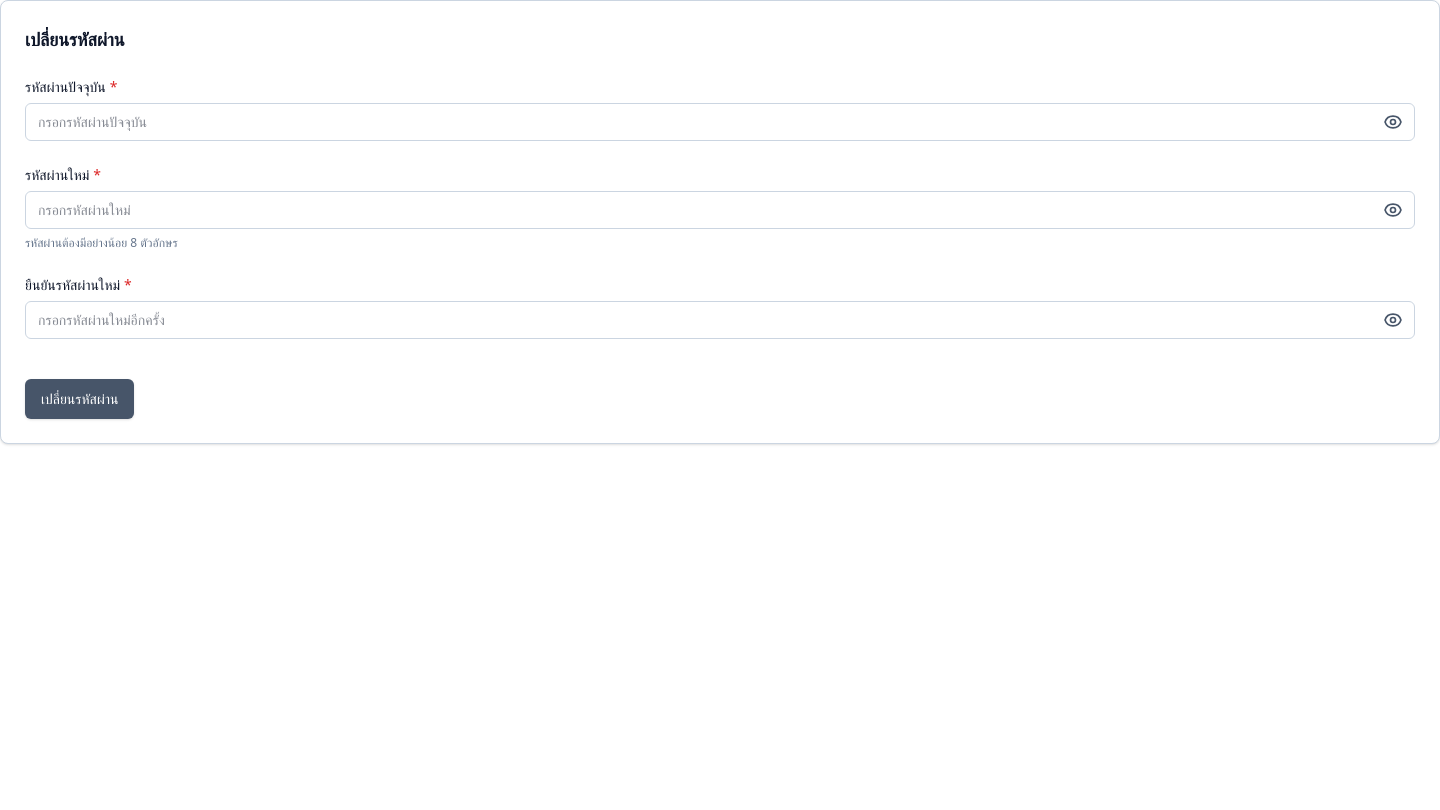
Scenario: ChangePasswordForm Component › should show password strength indicator
Type "weak" into the password field with placeholder "กรอกรหัสผ่านใหม่" at {"x": 720, "y": 210}, box [25,191,1415,229]
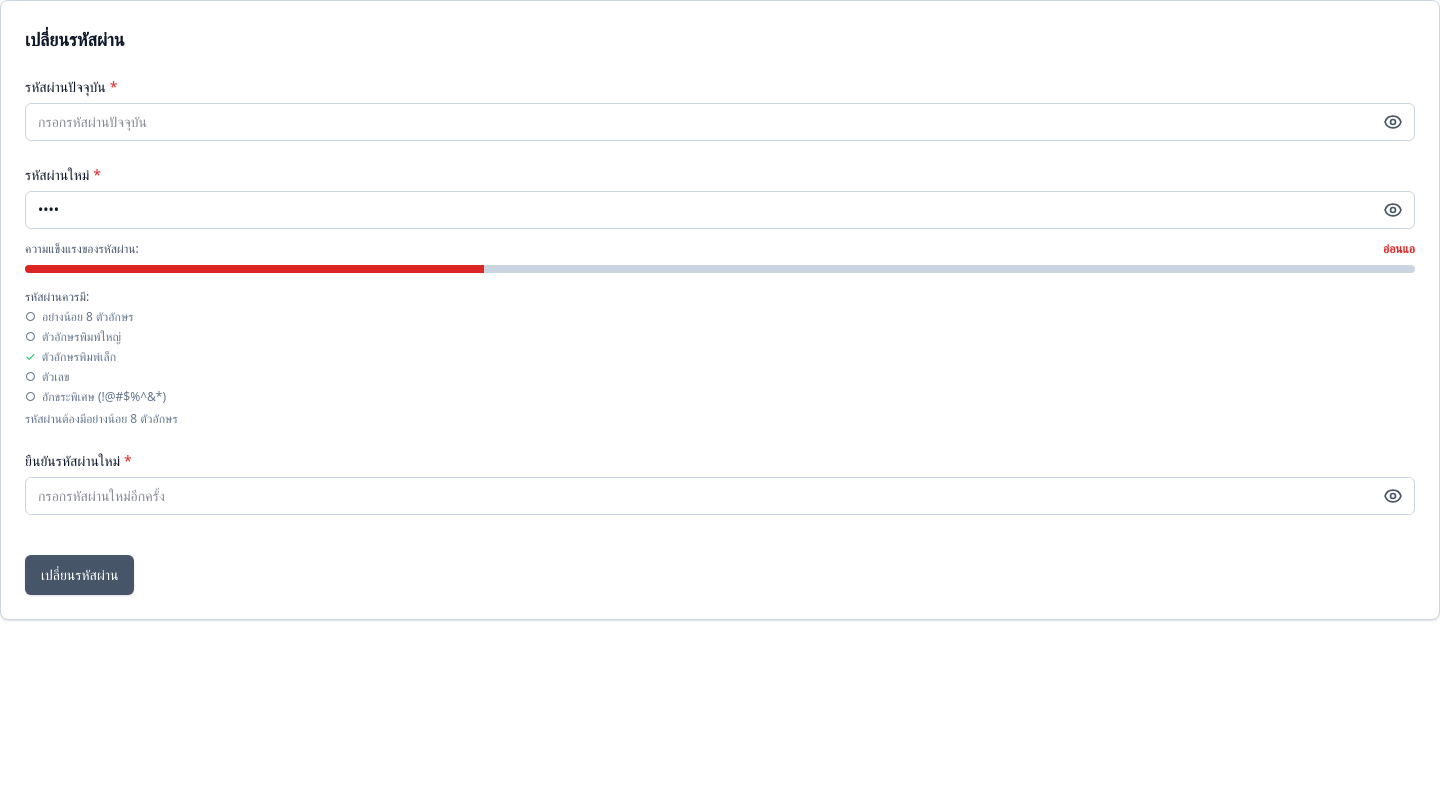
Expected: the text "ความแข็งแรงของรหัสผ่าน:" is shown, [25,241,139,257]
Expected: the text "อ่อนแอ" is shown, [1383,241,1415,257]
